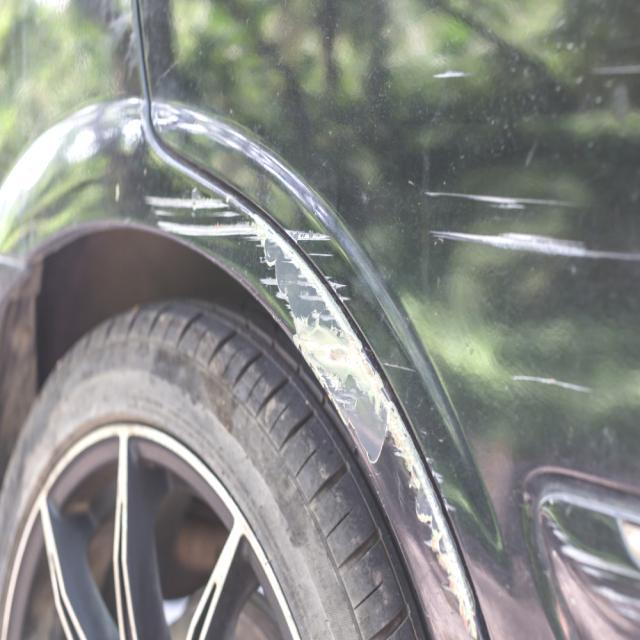minor: (426, 192, 583, 226), (435, 455, 495, 536), (280, 226, 332, 256), (381, 336, 413, 381), (327, 279, 352, 318), (433, 70, 467, 87)
moderate: (122, 130, 489, 633), (437, 233, 640, 266), (505, 376, 592, 399)
